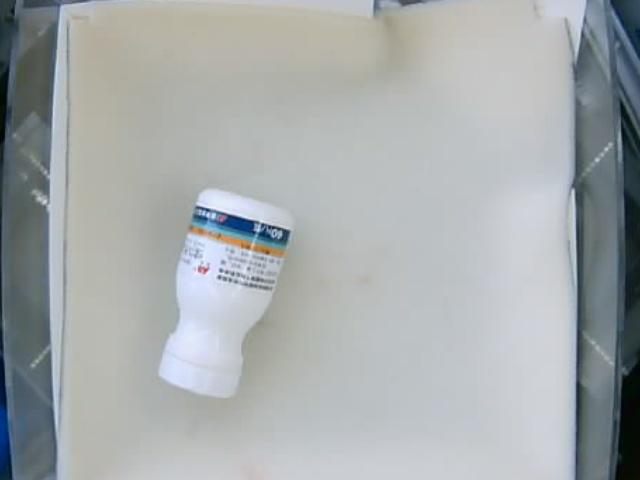Bottle: (159, 190, 292, 395)
